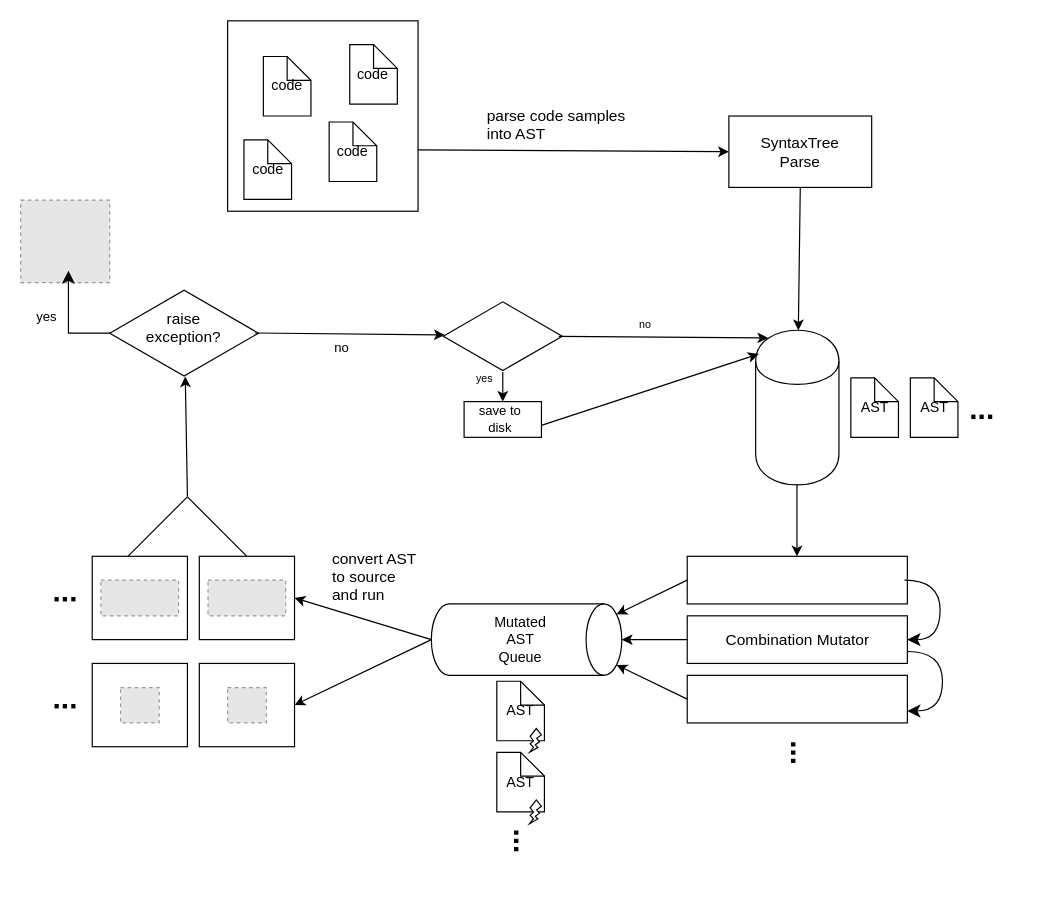
Some shapes in this 1039 by 898 pixel diagram are drawn without their labels. Grey dashed boxes stand in for pictures. Each missing label, with the centre of its shape:
"AST Queue" belongs at point (796, 407).
"Input Mutator" belongs at point (796, 698).
"Operator Mutator" belongs at point (796, 579).
"SEGFAULT?" belongs at point (502, 335).
